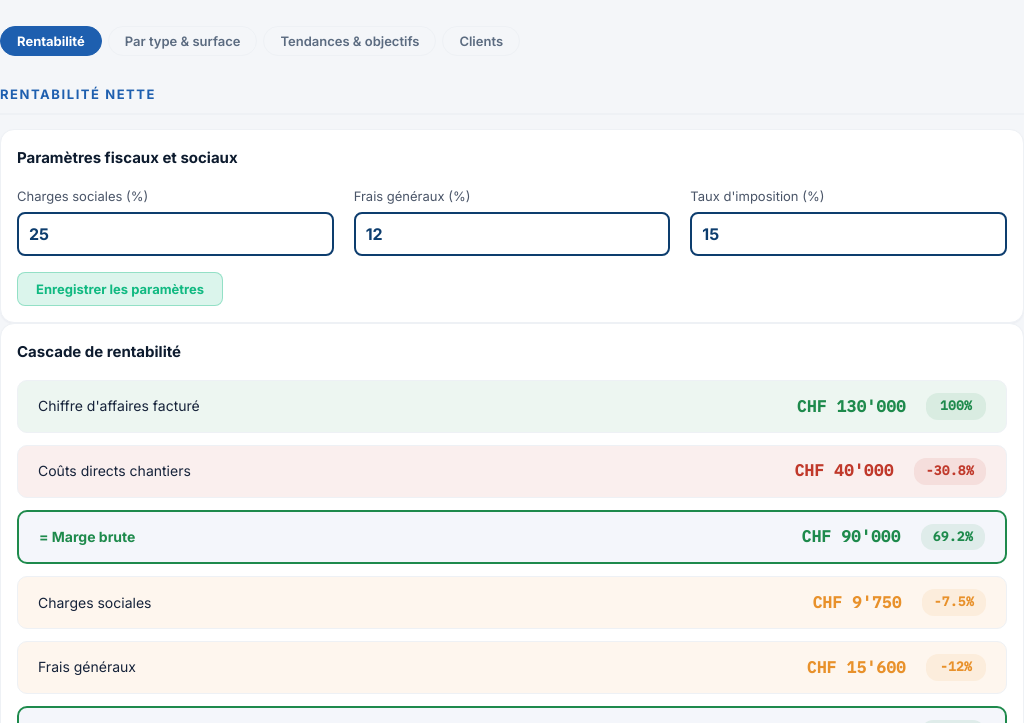
Test: PROJECTIONS / OBJECTIFS — annuels + libellés explicites « Année X » › projections et objectifs portent le libellé CA facturé annuel
The width and height of the screenshot is (1024, 723).
On bascule sur la vue Tendances & objectifs.
Click the button "Tendances & objectifs": (350, 41) [263,26,436,56]
(page scrolled)
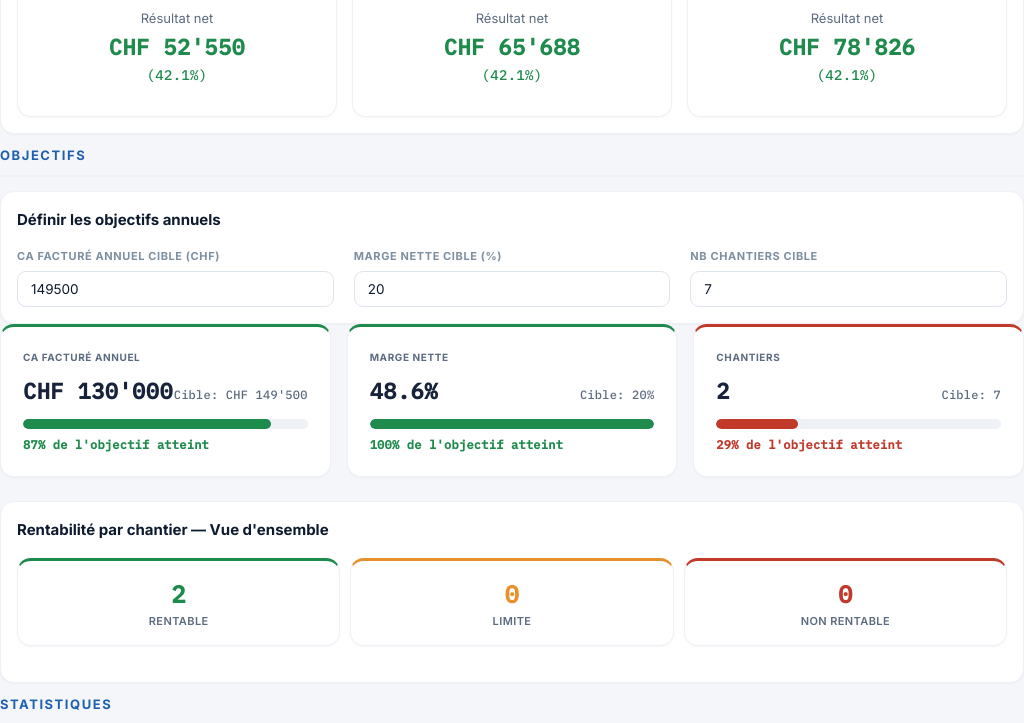
Check: the text "CA facturé annuel" is shown, box [23,351,140,363]
